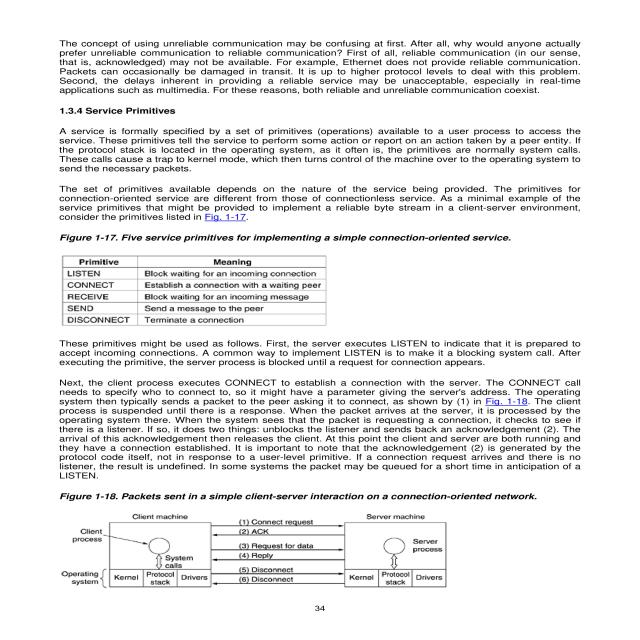diagram: (55, 492, 555, 602)
